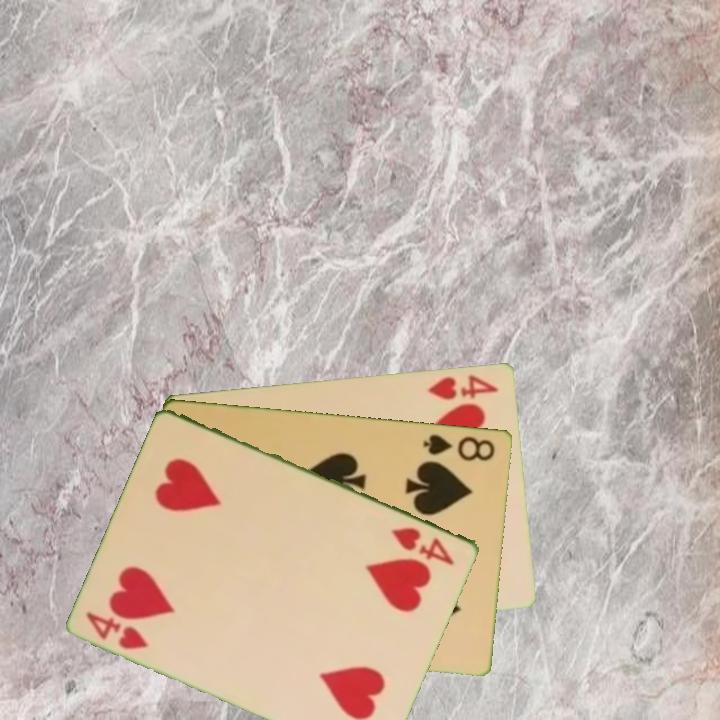4h: (388, 523, 458, 569), (83, 608, 152, 652), (425, 371, 502, 403)
8s: (420, 430, 498, 464)
